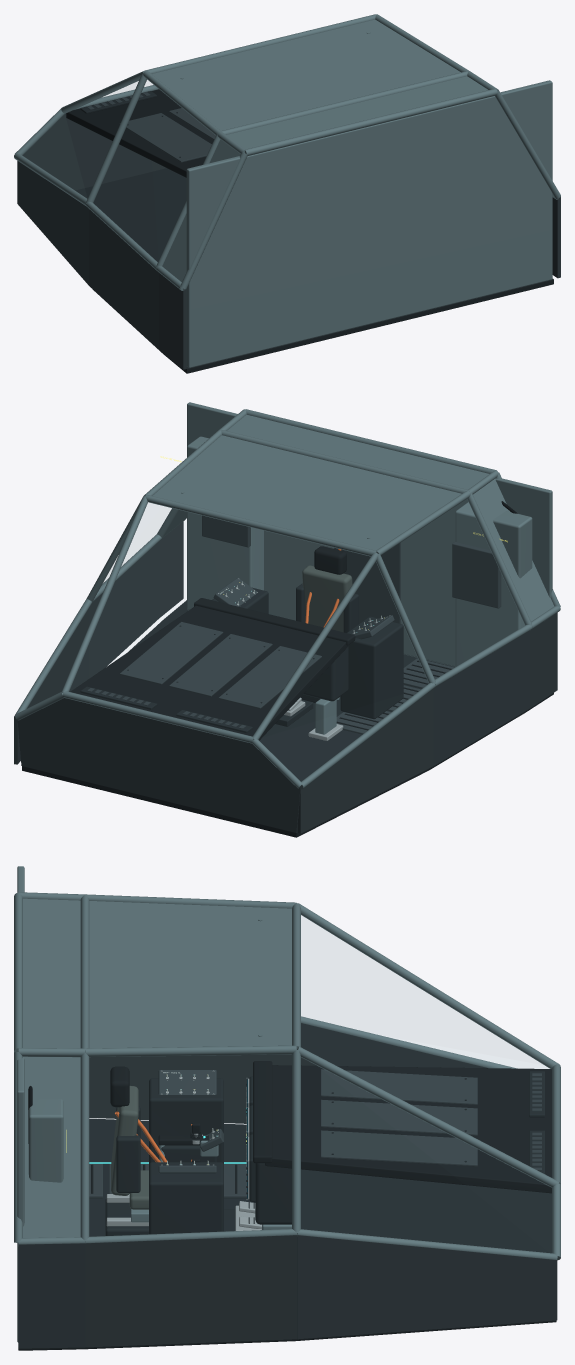
Rendered from hero-cockpit-hero.glb.
3 renders of one model, top to bottom at view 1: azimuth 30°, elevation 25°; view 2: azimuth 150°, elevation 25°; view 3: azimuth 270°, elevation 25°, orthographic. The views are drawn at different scales.
Parts seen in each view (by area): view 1: Cell aft bulkhead, Cell pressure skin 1-0, Cell floor sandwich, Cell inner side liner.001, Cell inner forward liner, Cell pressure skin 0-0, Cell inner side liner.002, Forward avionics deck, Avionics service lid, Cell inner side liner, Cell structural frame, Cell structural frame.002 (+13 smaller); view 2: Cell inner forward liner, Cell pressure skin 1-0, Cell aft bulkhead, Forward avionics deck, Cell inner side liner.002, Cell inner side liner.001, Cell floor sandwich, Aft service cabinet, Cell pressure skin 0-0, Cell inner side liner.004, Secondary console, Aft service cabinet.001 (+32 smaller); view 3: Cell pressure skin 1-0, Cell inner side liner.004, Cell inner side liner.005, Cell floor sandwich, Forward avionics deck, Cell pressure skin 0-0, Cell pressure skin 0-1, Cell inner side liner.003, Cell inner side liner.001, Secondary console.001, Avionics service lid.002, Cell inner side liner.002 (+30 smaller).
Boxes of the visible parts, x1,y1,x2,y2 form: Cell aft bulkhead: (186, 80, 552, 367); Cell pressure skin 1-0: (152, 19, 460, 130); Cell floor sandwich: (75, 168, 553, 373); Cell inner side liner.001: (89, 209, 158, 349); Cell inner forward liner: (23, 113, 166, 190); Cell pressure skin 0-0: (226, 76, 488, 149); Cell inner side liner.002: (17, 161, 88, 285); Forward avionics deck: (66, 89, 213, 177); Avionics service lid: (119, 113, 211, 162); Cell inner side liner: (159, 273, 186, 369); Cell structural frame: (245, 89, 497, 155); Cell structural frame.002: (220, 71, 468, 134); Cell inner forward liner: (17, 698, 300, 832); Cell pressure skin 1-0: (153, 435, 461, 550); Cell aft bulkhead: (187, 402, 552, 666); Forward avionics deck: (70, 605, 348, 740); Cell inner side liner.002: (297, 689, 433, 833); Cell inner side liner.001: (433, 631, 529, 765); Cell floor sandwich: (22, 600, 553, 837); Aft service cabinet: (455, 502, 532, 666); Cell pressure skin 0-0: (227, 414, 489, 489); Cell inner side liner.004: (89, 541, 159, 678); Secondary console: (340, 616, 403, 719); Aft service cabinet.001: (187, 436, 263, 610); Cell pressure skin 1-0: (89, 901, 291, 1048); Cell inner side liner.004: (85, 1235, 296, 1347); Cell inner side liner.005: (297, 1235, 557, 1339); Cell floor sandwich: (18, 1118, 556, 1350); Forward avionics deck: (265, 1065, 551, 1193); Cell pressure skin 0-0: (23, 898, 80, 1048); Cell pressure skin 0-1: (23, 1056, 80, 1237); Cell inner side liner.003: (18, 1243, 85, 1348); Cell inner side liner.001: (89, 1054, 291, 1123); Secondary console.001: (149, 1162, 223, 1234); Avionics service lid.002: (321, 1130, 477, 1166); Cell inner side liner.002: (301, 1023, 488, 1068).
Size of the model in its own units: 4.63 by 2.43 by 4.52.
